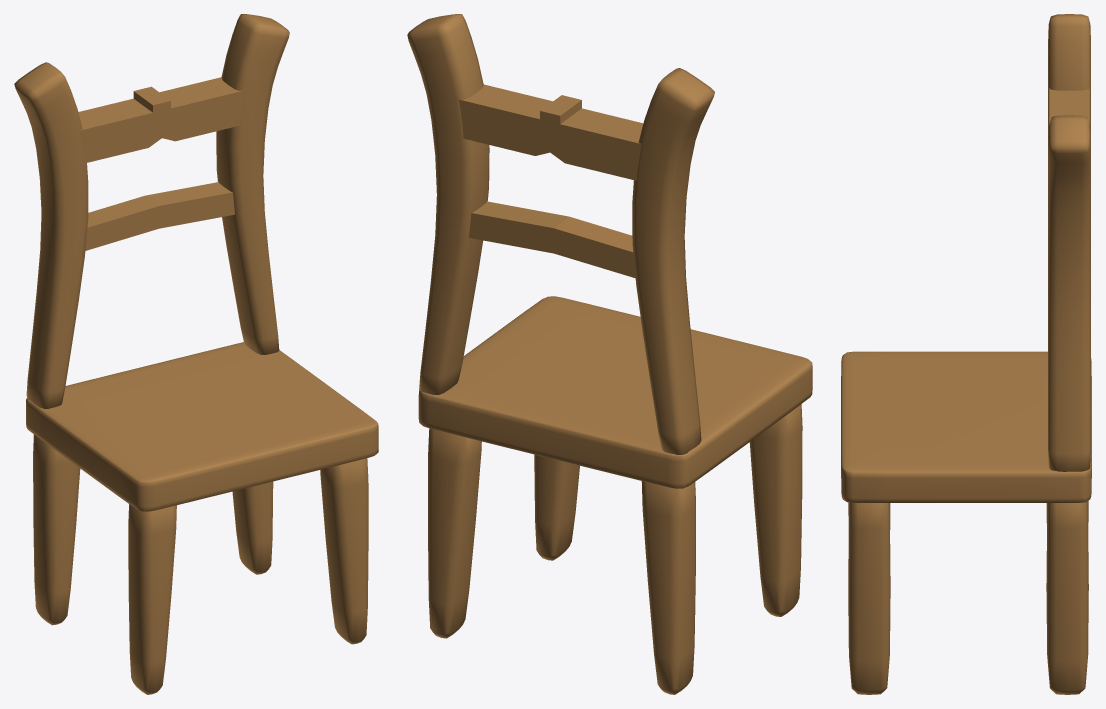
File: chaise_highpoly_placeholder.fbx
3 views of the same model, side by side, from view 1: azimuth 30°, elevation 25°; view 2: azimuth 150°, elevation 25°; view 3: azimuth 270°, elevation 25° (orthographic). The views are drawn at different scales.
Visible parts, largest first — view 1: chaise_low_poly.012; view 2: chaise_low_poly.012; view 3: chaise_low_poly.012.
Part boxes in pixels (x1,y1,x2,y2): chaise_low_poly.012: [14, 14, 378, 694]; chaise_low_poly.012: [407, 14, 812, 694]; chaise_low_poly.012: [841, 14, 1091, 694].
Bounding box in the file's own units: 78.93 × 160 × 63.17.
